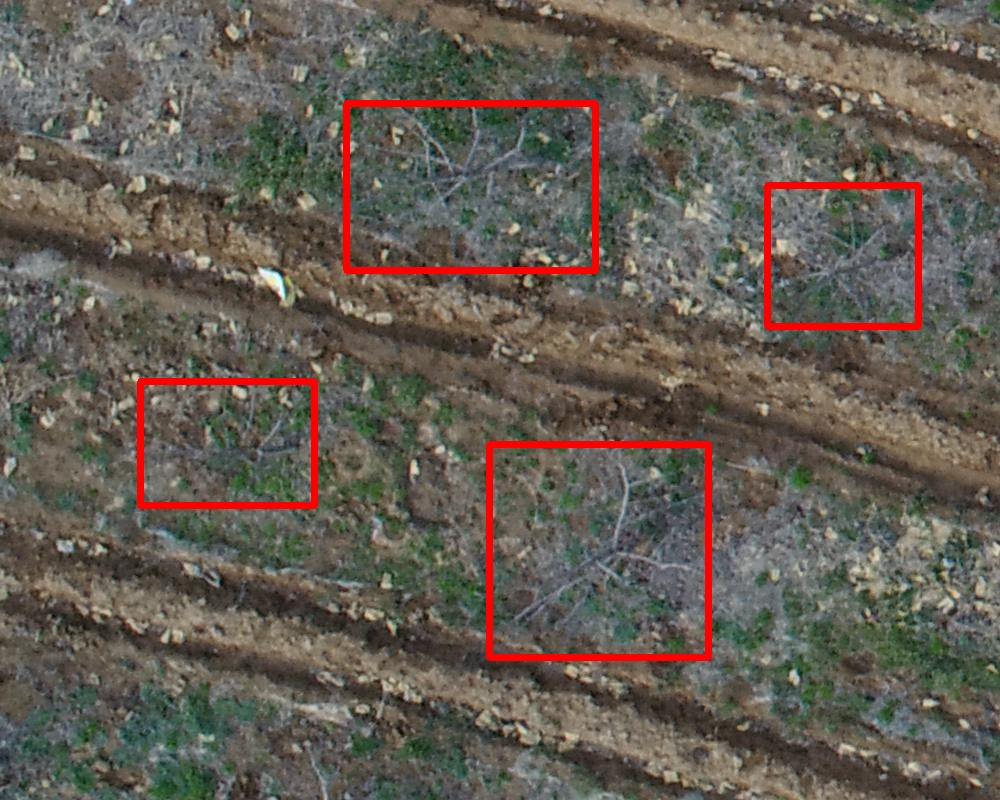apple: (489, 444, 708, 657), (346, 103, 595, 270), (140, 381, 314, 505), (767, 185, 918, 326)
